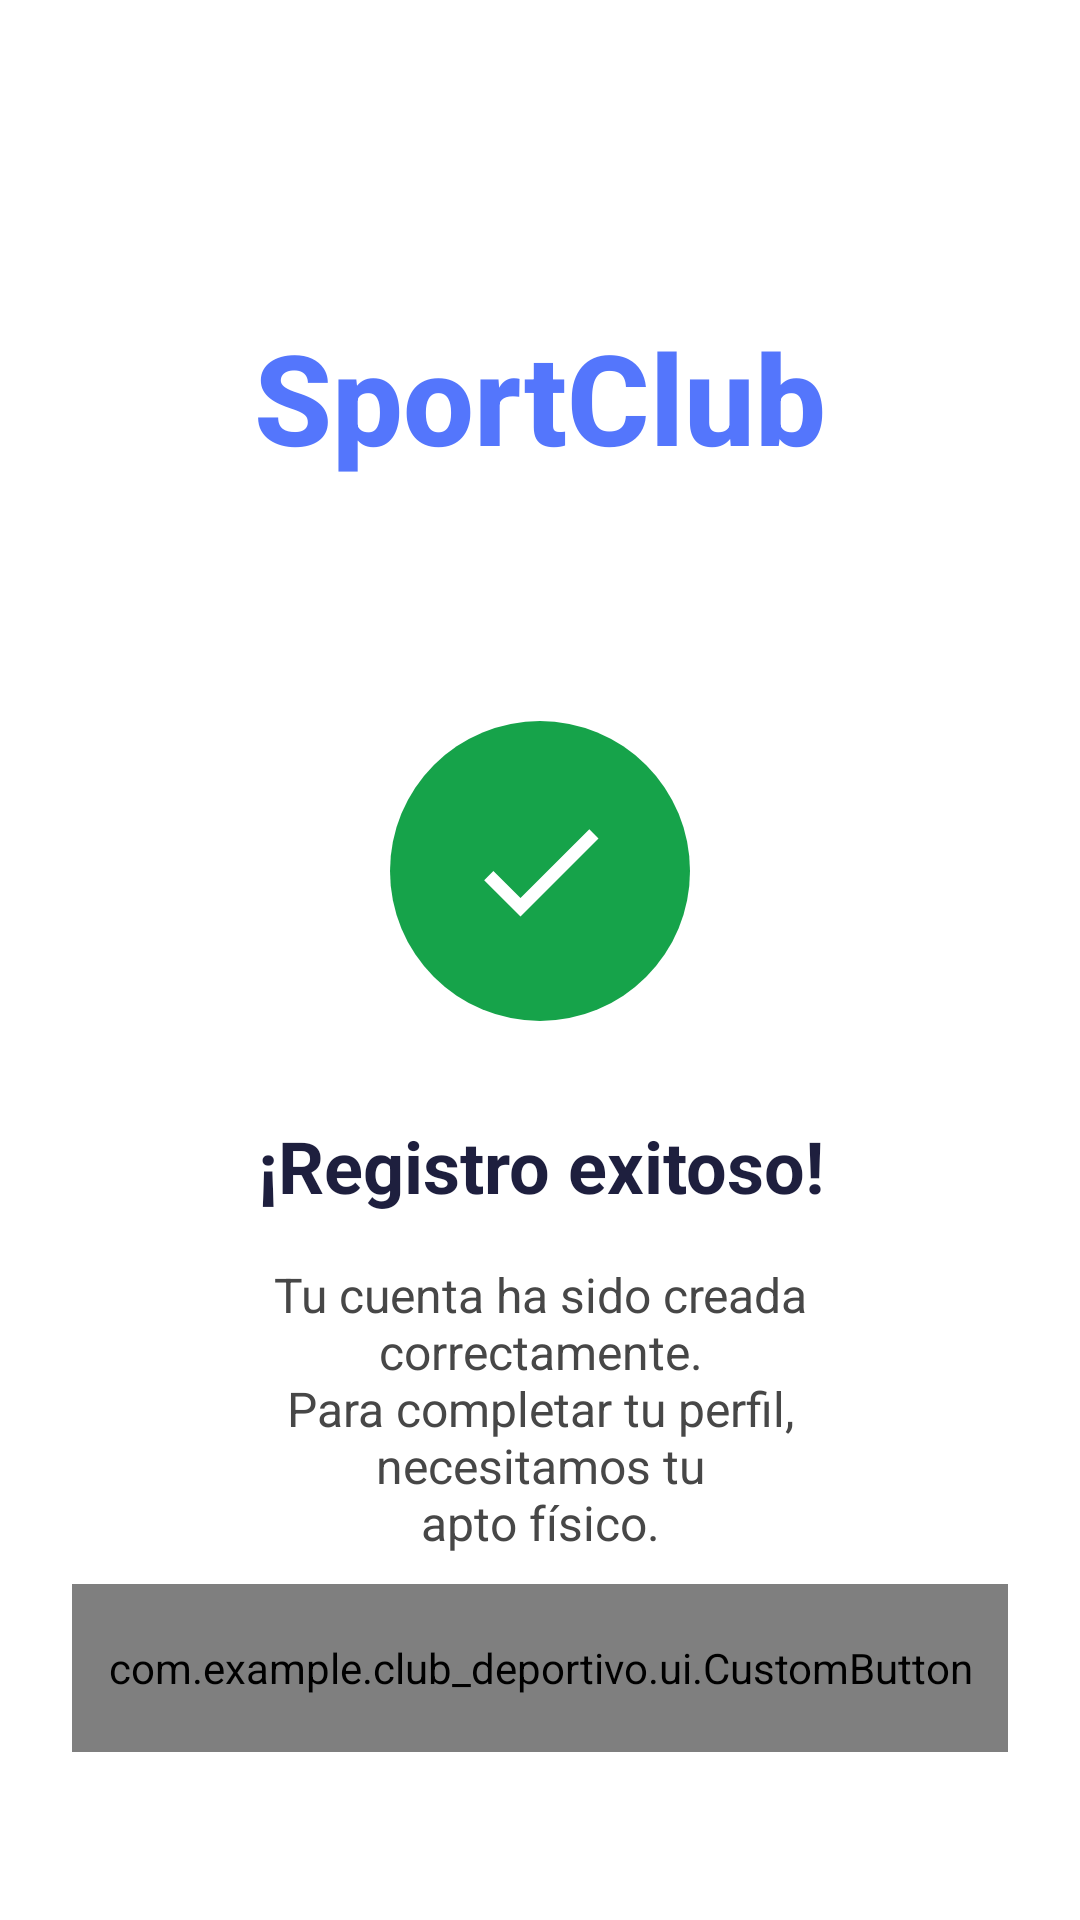

Screen size 1080*1920. Icon name, then its box in pixels as (x1, y1, x2, y2):
Success checkmark: (484, 829, 599, 917)
